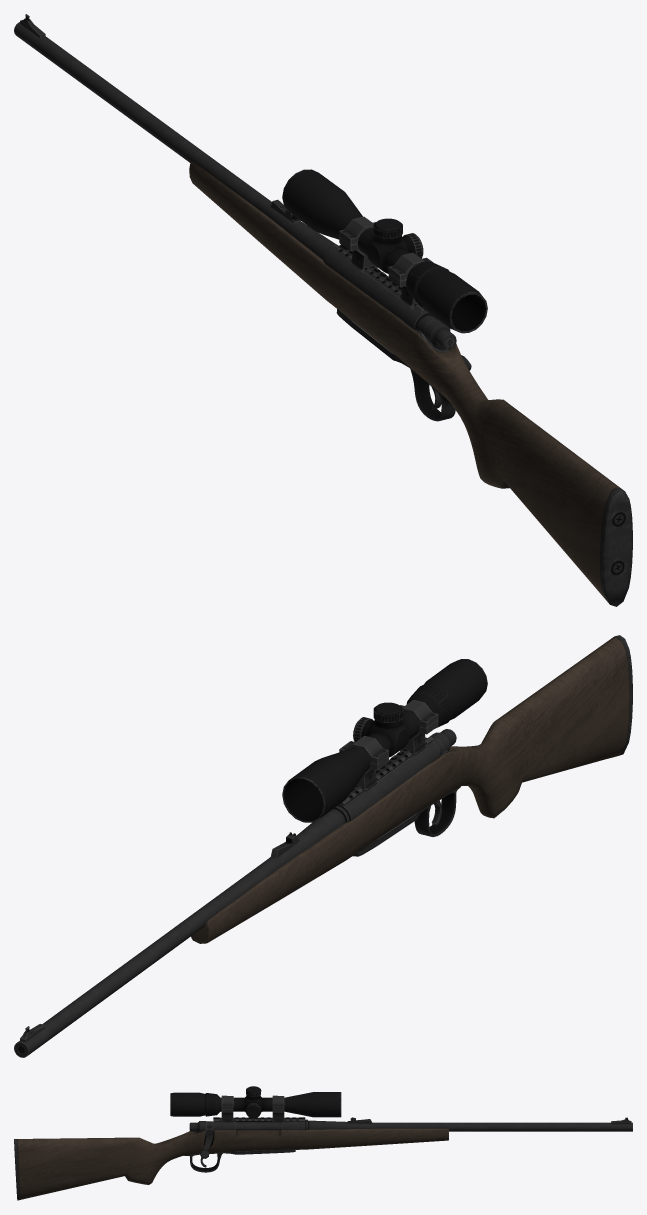
File: m700_scoped.glb
The picture shows the model from 3 angles, top to bottom: view 1: azimuth 30°, elevation 25°; view 2: azimuth 150°, elevation 25°; view 3: azimuth 270°, elevation 25°; orthographic projection. The views are drawn at different scales.
Parts seen in each view (by area): view 1: BodyPart2, BodyPart1, ScopePart5, BodyPart5, ScopePart6; view 2: BodyPart2, BodyPart1, ScopePart5, BodyPart5, ScopePart6, ScopePart3, ScopePart1, ScopePart4; view 3: BodyPart2, BodyPart1, ScopePart5, BodyPart5, BoltPart3, ScopePart6, ScopePart1, ScopePart3, ScopePart4, BoltPart2, ScopePart7.
Boxes of the visible parts, x1,y1,x2,y2 form: BodyPart2: [189, 160, 632, 606]; BodyPart1: [14, 22, 449, 352]; ScopePart5: [282, 169, 487, 333]; BodyPart5: [336, 309, 455, 421]; ScopePart6: [339, 216, 433, 280]; BodyPart2: [191, 635, 632, 943]; BodyPart1: [14, 741, 449, 1057]; ScopePart5: [282, 659, 487, 822]; BodyPart5: [353, 787, 460, 856]; ScopePart6: [339, 700, 438, 764]; ScopePart3: [406, 683, 453, 728]; ScopePart1: [356, 720, 438, 791]; ScopePart4: [339, 737, 433, 806]; BodyPart2: [14, 1128, 448, 1200]; BodyPart1: [194, 1119, 632, 1134]; ScopePart5: [170, 1092, 341, 1117]; BodyPart5: [184, 1149, 295, 1172]; BoltPart3: [213, 1122, 281, 1131]; ScopePart6: [221, 1095, 284, 1109]; ScopePart1: [221, 1109, 284, 1122]; ScopePart3: [205, 1093, 220, 1116]; ScopePart4: [213, 1117, 305, 1121]; BoltPart2: [200, 1121, 212, 1158]; ScopePart7: [246, 1103, 261, 1118].
Size of the model in its own units: 0.0569 by 0.2098 by 1.05.
1 material, 1 textured.
